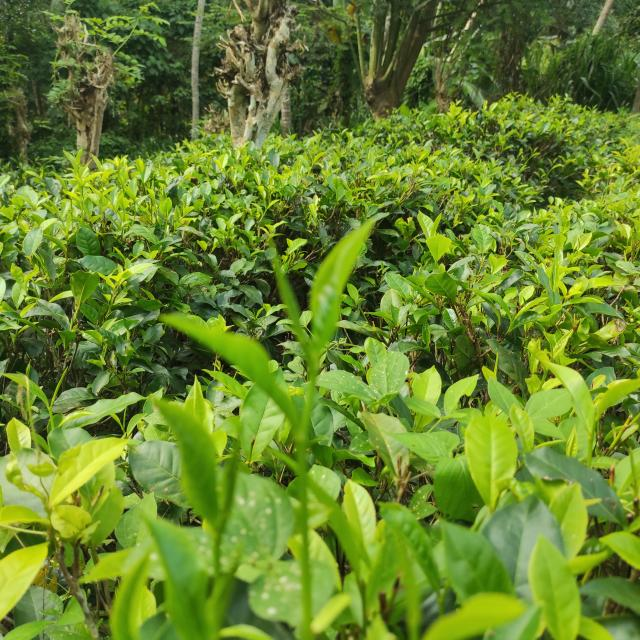unopened_leaf: (261, 223, 324, 358), (208, 420, 254, 530), (45, 361, 71, 409)
